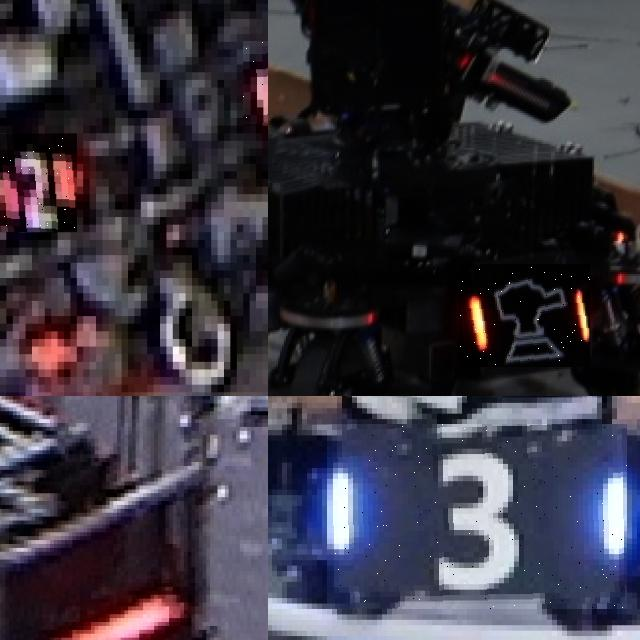B3: (327, 424, 627, 609)
R2: (0, 133, 77, 232), (243, 41, 268, 125)
Rs: (459, 264, 590, 367)
